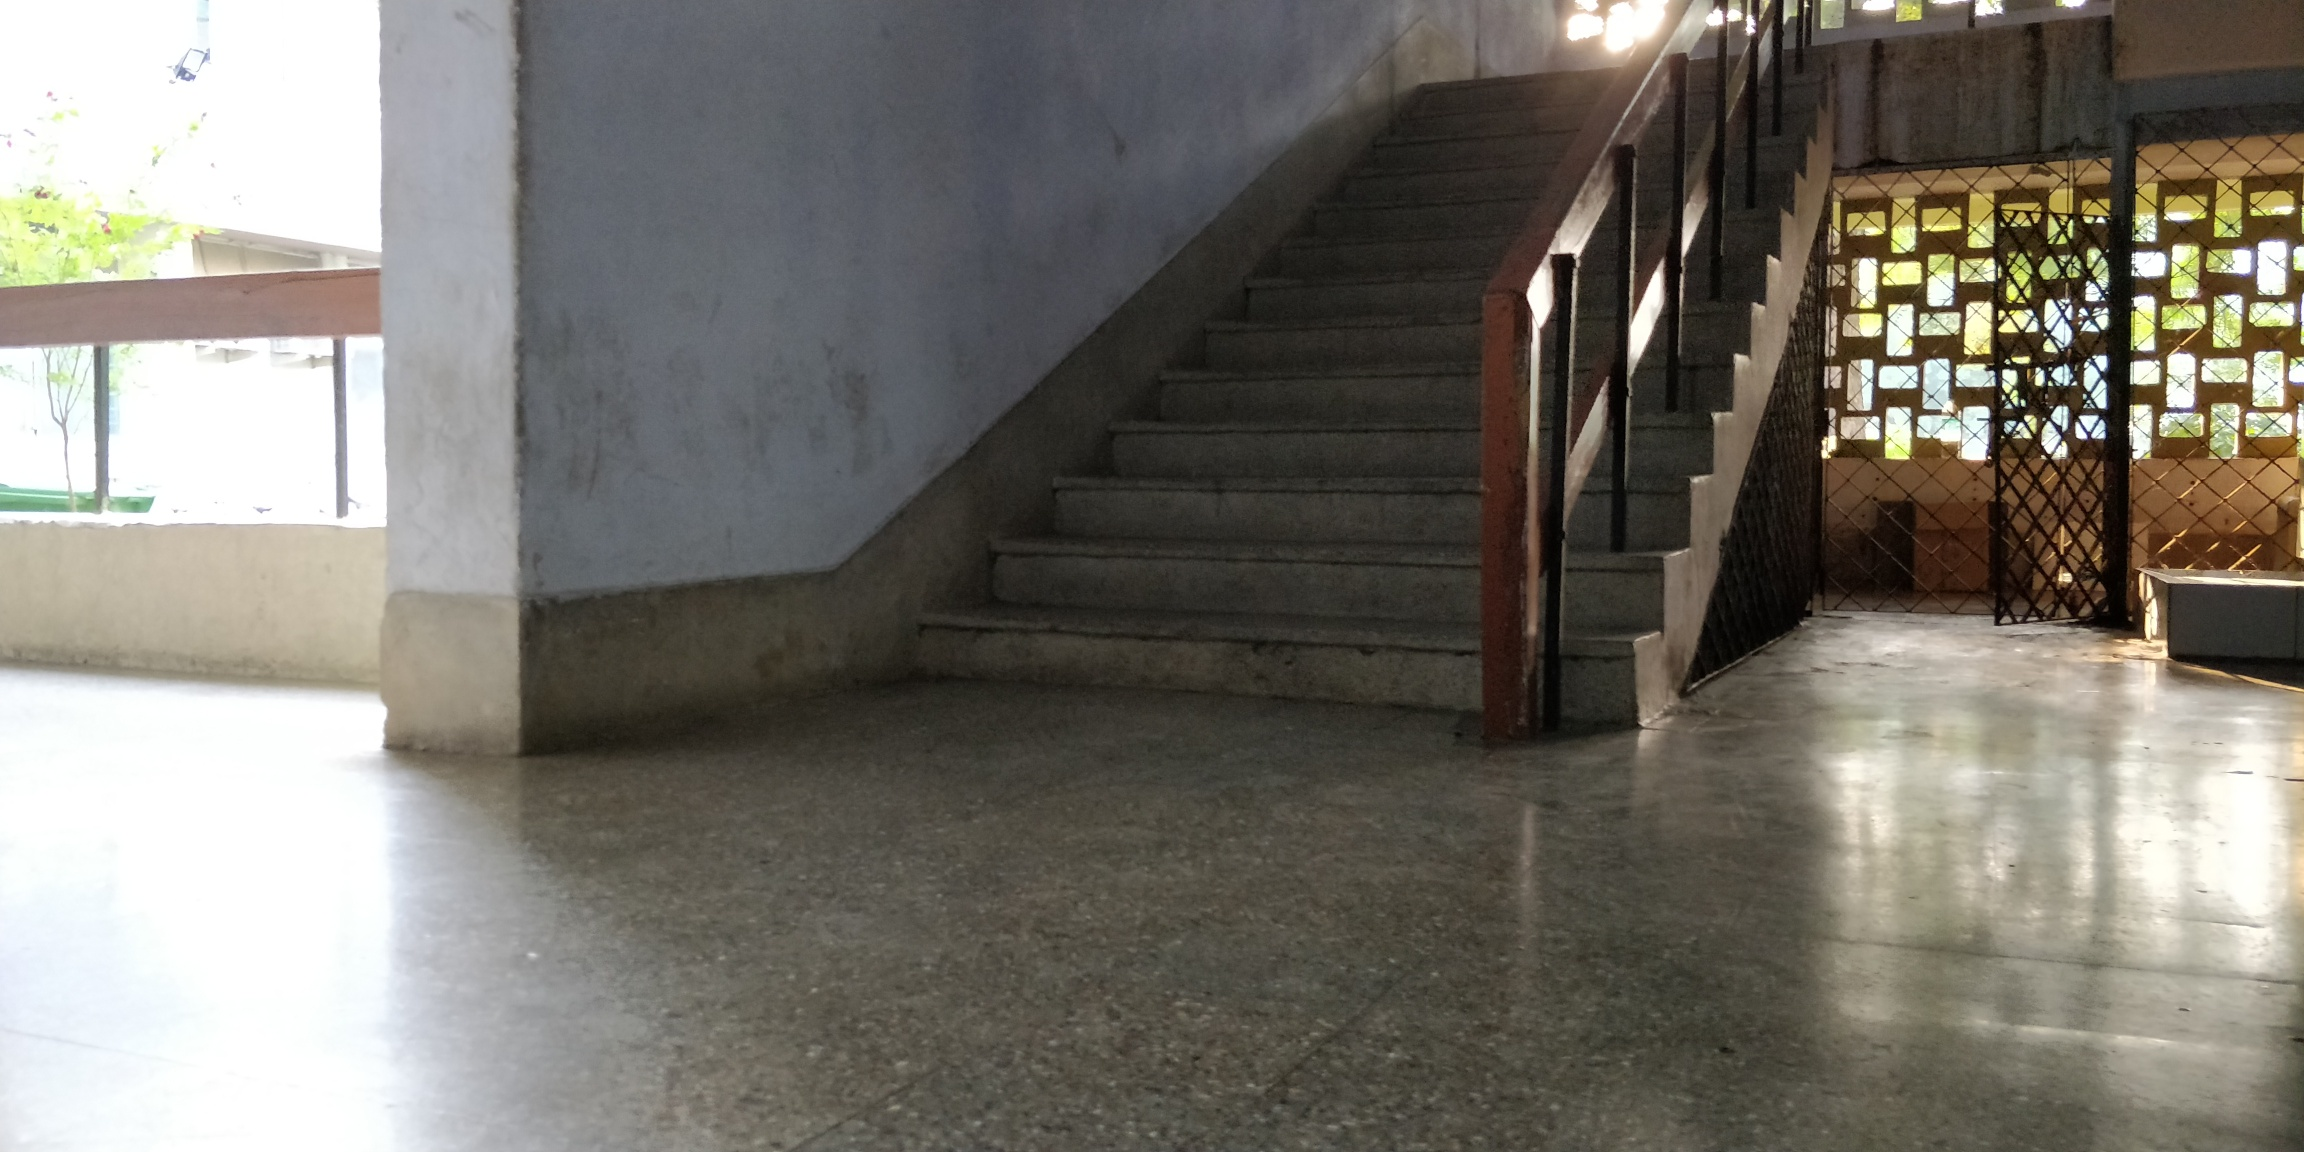stairs_up: (871, 48, 1825, 704)
